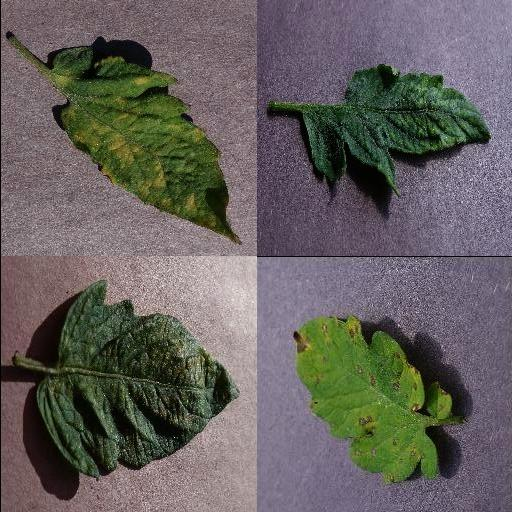Leaf Mold: (50, 48, 240, 244)
Mosaic Virus: (301, 64, 489, 198)
Septoria: (292, 314, 438, 484)
Spider Mites: (36, 279, 238, 477)
